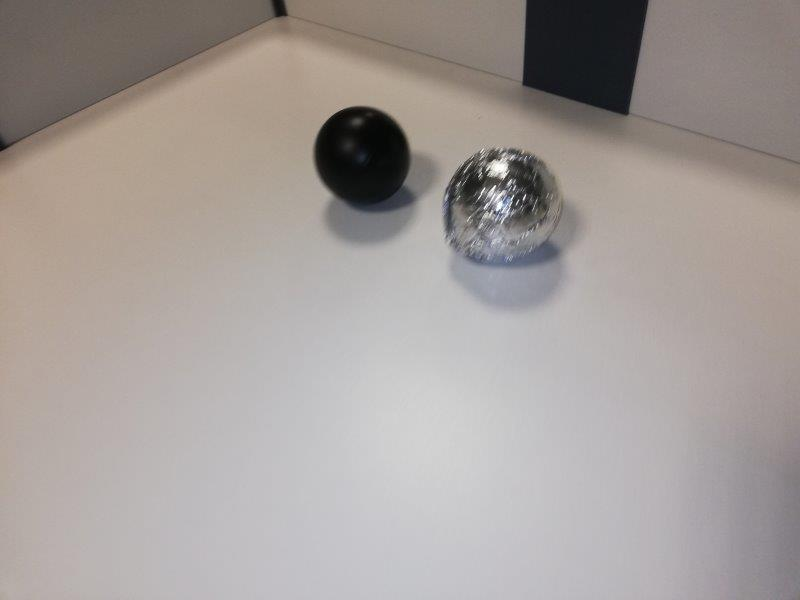bianca: (441, 149, 564, 268)
nera: (314, 105, 410, 205)
